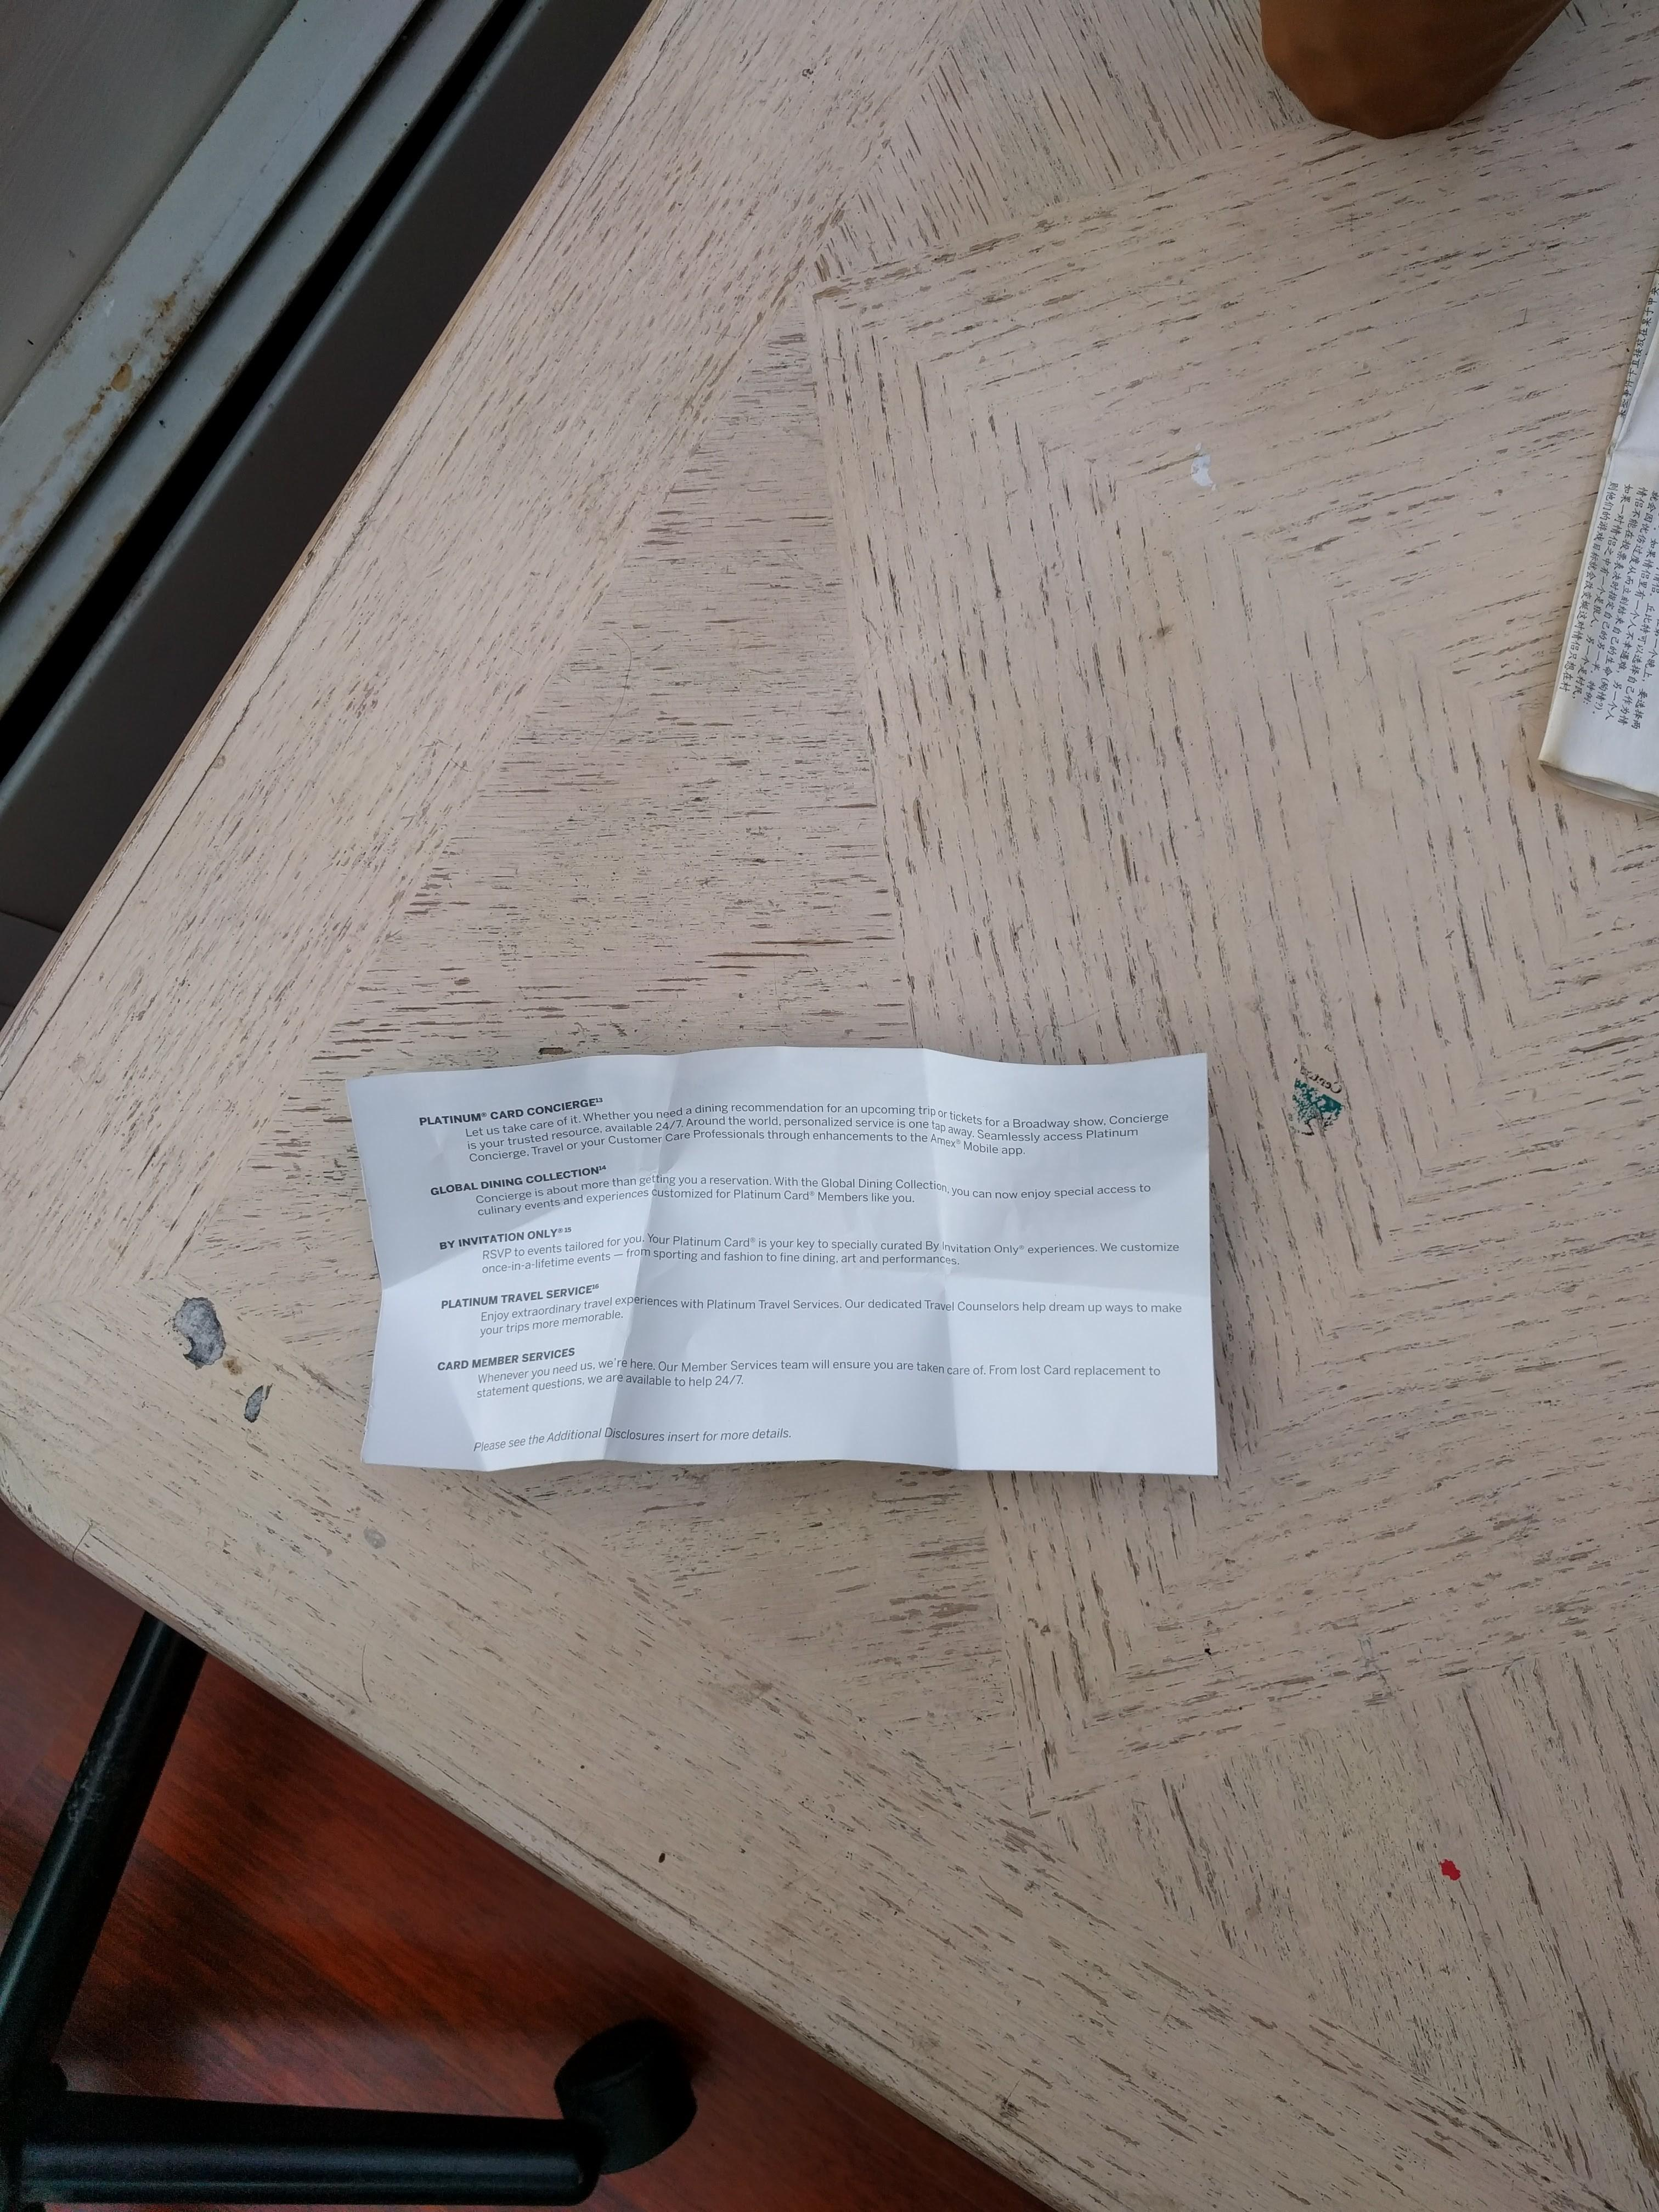paper: (254, 954, 1425, 1705)
